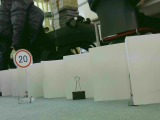speed_20: (12, 48, 33, 69)
